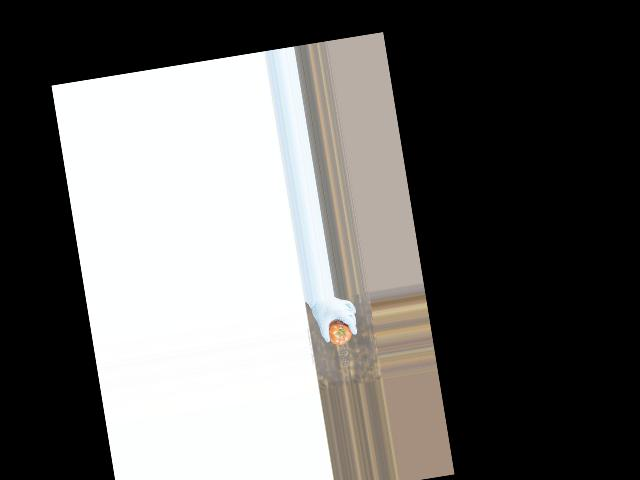tomato: (326, 318, 353, 347)
